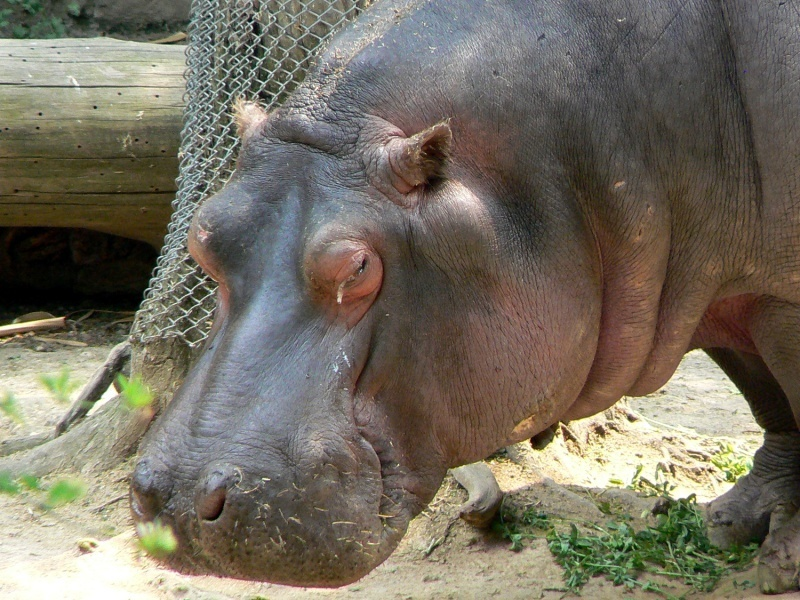hipopotamo: (100, 1, 798, 599)
